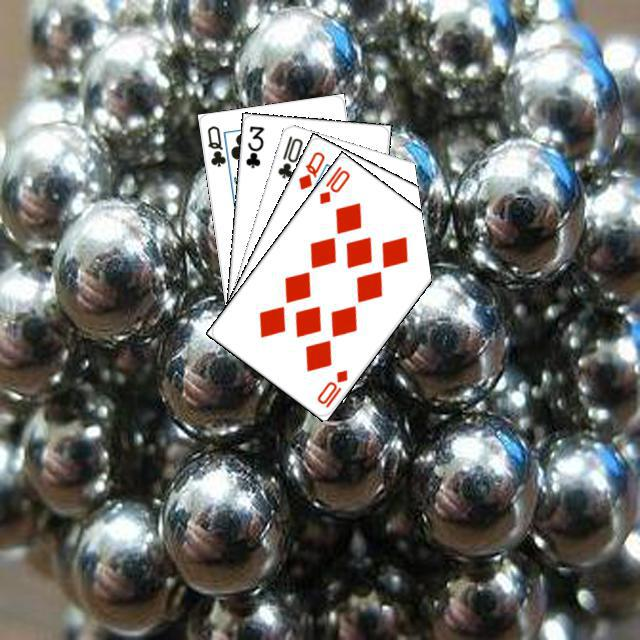10c: (273, 131, 305, 180)
10d: (312, 364, 350, 410), (314, 161, 352, 206)
3c: (241, 121, 266, 170)
Qc: (202, 121, 232, 171)
Qd: (293, 147, 326, 191)
